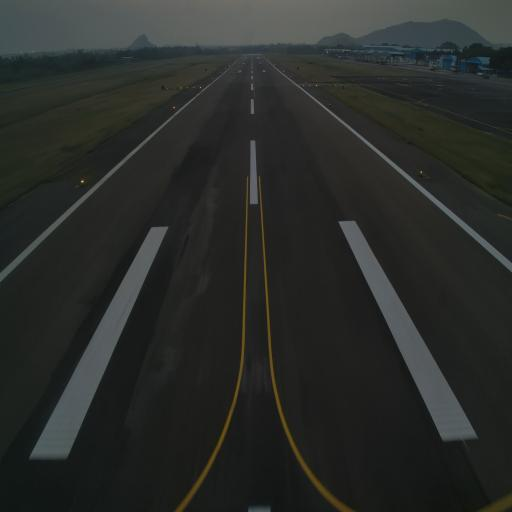on: (81, 176, 85, 186), (419, 168, 423, 176), (173, 104, 176, 110), (328, 103, 332, 107)
